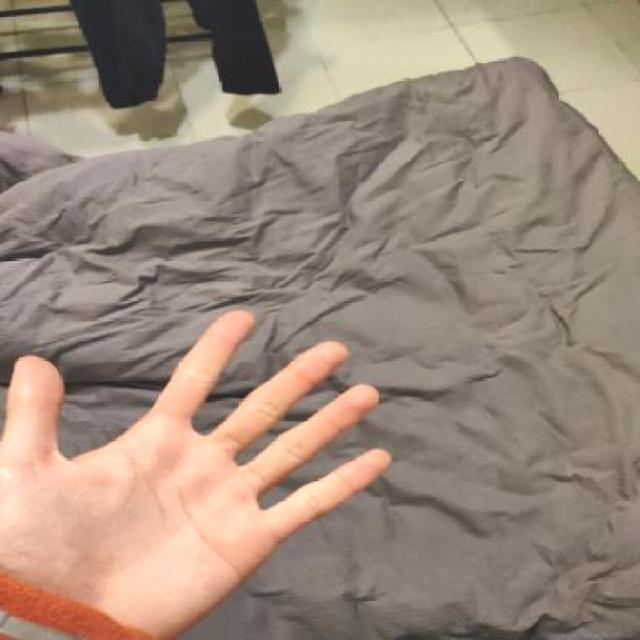no_glove: (2, 296, 426, 638)
